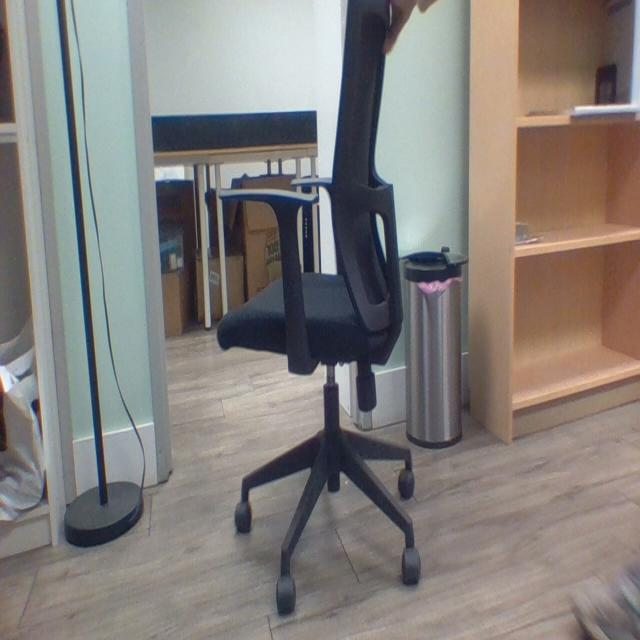black-chair: (212, 9, 429, 609)
